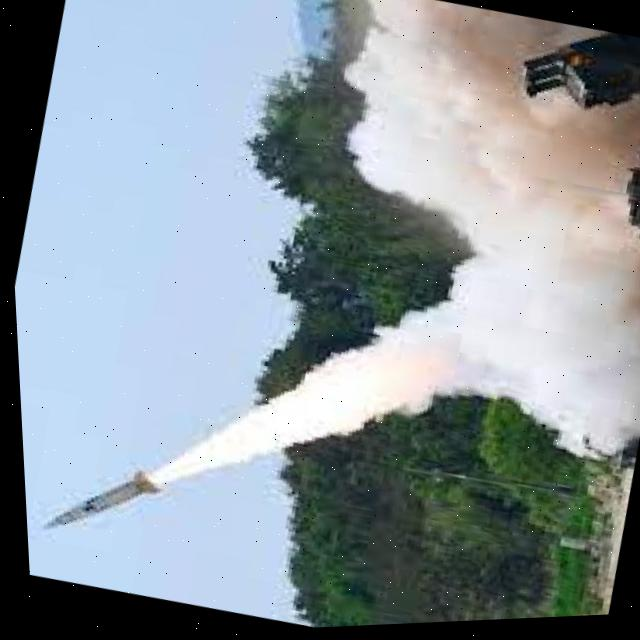missile: (27, 446, 161, 555)
